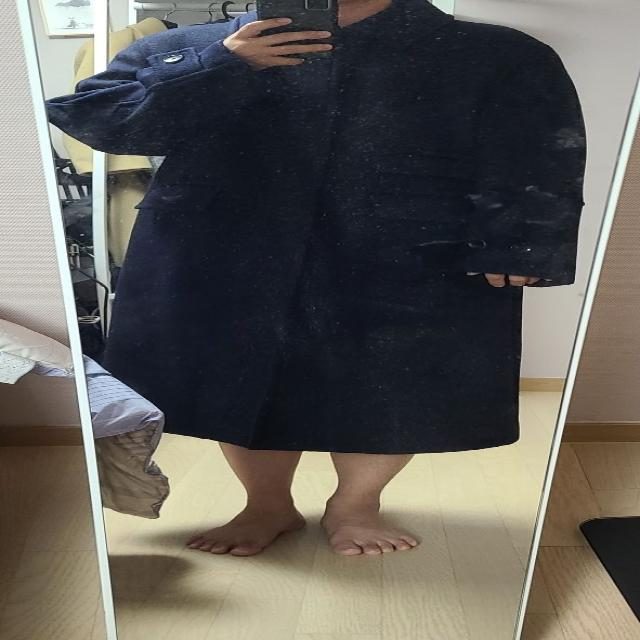coat: (46, 0, 579, 453)
